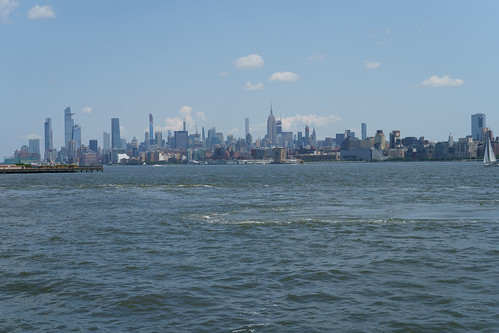boat: (477, 143, 499, 167)
building: (61, 107, 85, 157), (465, 111, 488, 153), (264, 106, 280, 149), (105, 114, 120, 159), (41, 110, 54, 158), (142, 109, 156, 153), (239, 114, 253, 146), (357, 117, 368, 150)
sea: (1, 162, 494, 333)
sky: (1, 1, 499, 152)
